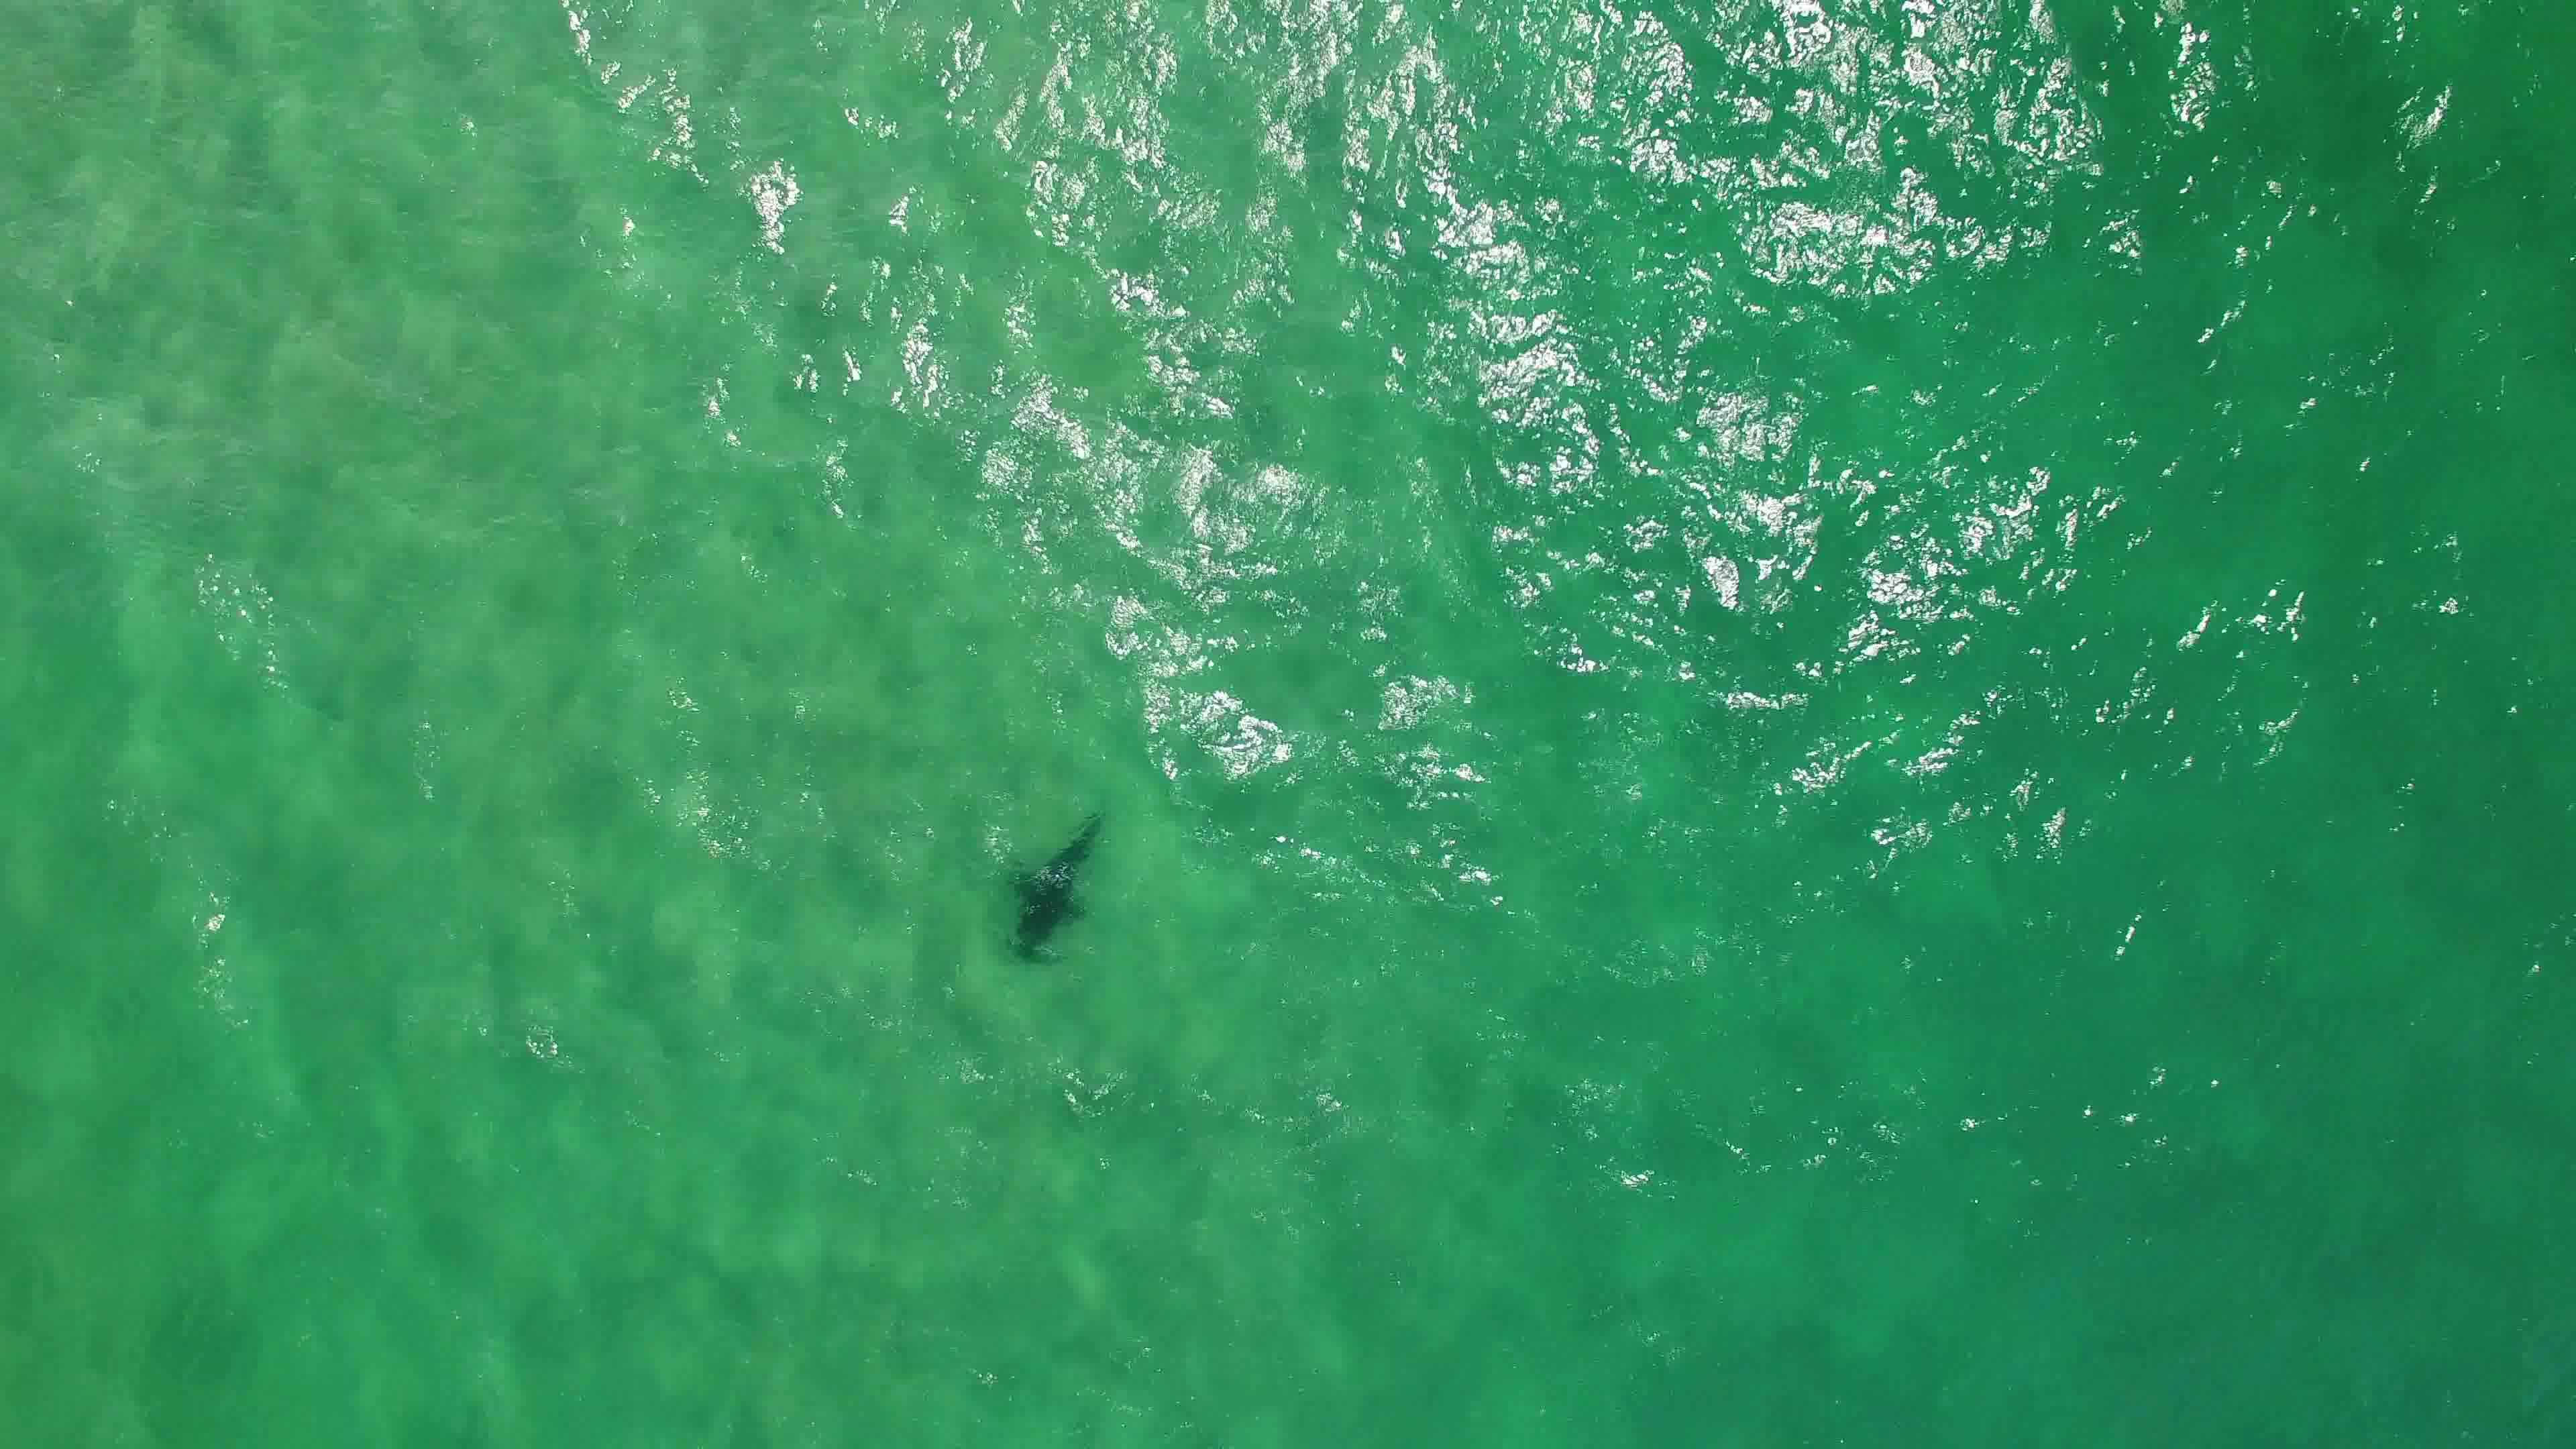shark: (980, 789, 1111, 973)
